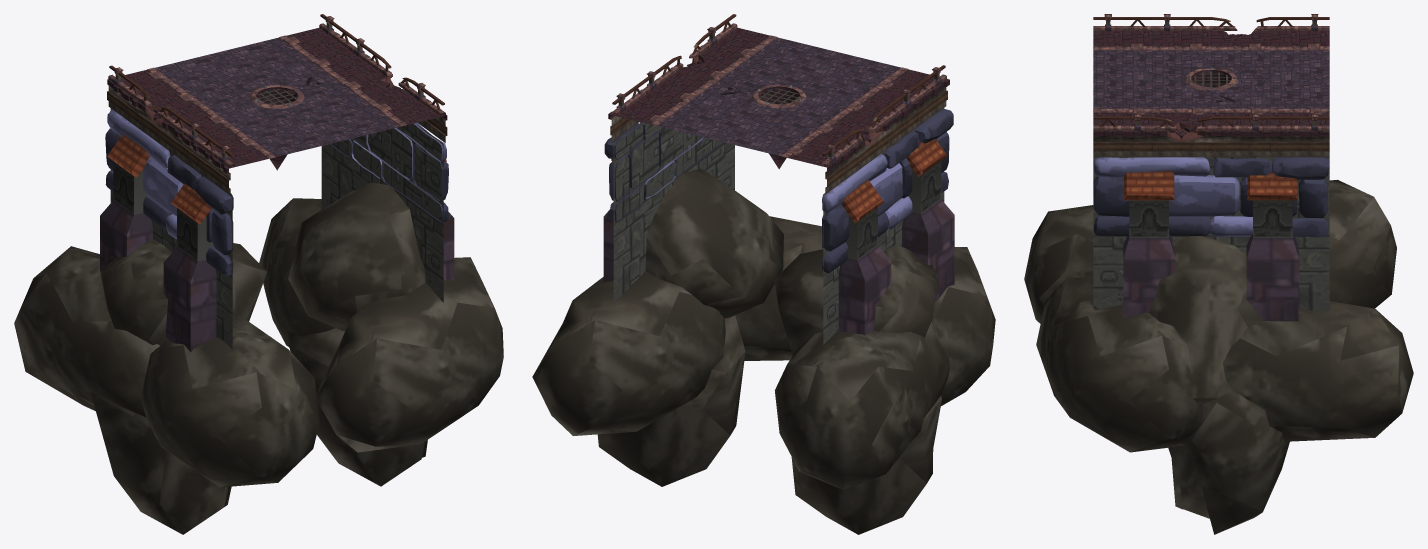
File: Hallway_I_16_A.fbx
The picture shows the model from 3 angles, left to right: view 1: azimuth 30°, elevation 25°; view 2: azimuth 150°, elevation 25°; view 3: azimuth 270°, elevation 25°; orthographic projection. The views are drawn at different scales.
Parts seen in each view (by area): view 1: Hallway_I_16_A; view 2: Hallway_I_16_A; view 3: Hallway_I_16_A.
Part boxes in pixels (x1,y1,x2,y2): Hallway_I_16_A: (14, 14, 503, 534); Hallway_I_16_A: (532, 14, 995, 534); Hallway_I_16_A: (1024, 14, 1413, 534).
Bounding box in the file's own units: 2799 × 3017 × 2641.
